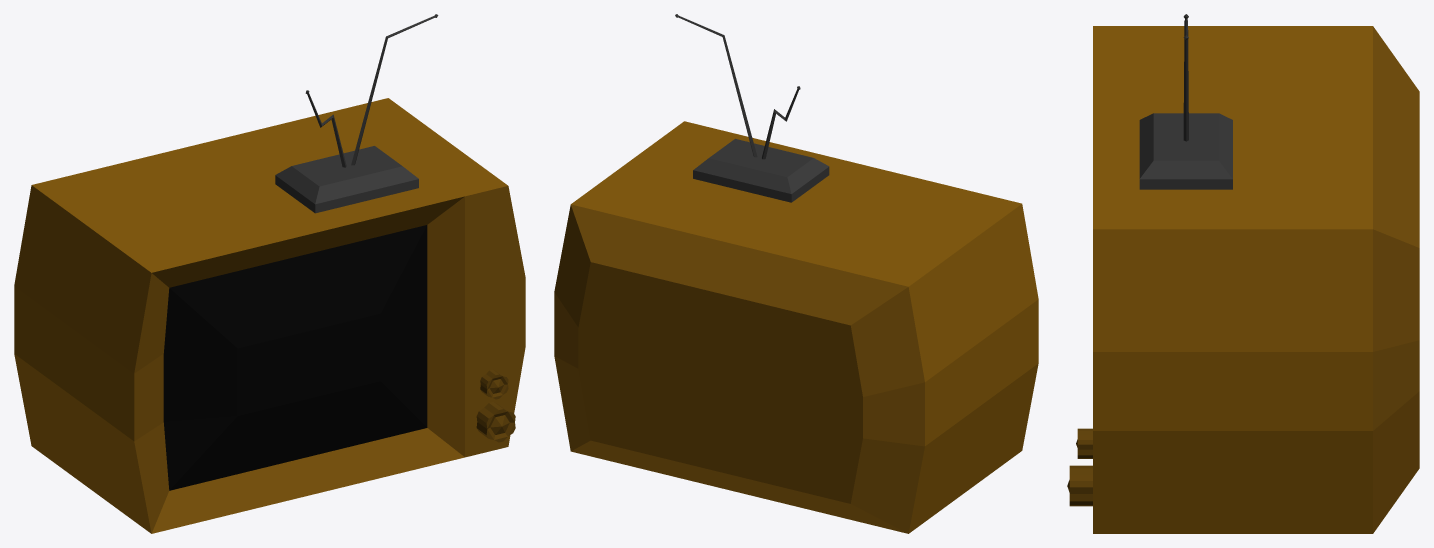
3 views of the same model, side by side, from view 1: azimuth 30°, elevation 25°; view 2: azimuth 150°, elevation 25°; view 3: azimuth 270°, elevation 25° (orthographic). The views are drawn at different scales.
Visible parts, largest first — view 1: TV; view 2: TV; view 3: TV.
Part boxes in pixels (x1=…): TV: x1=14, y1=14, x2=525, y2=533; TV: x1=554, y1=14, x2=1038, y2=533; TV: x1=1067, y1=14, x2=1419, y2=533.
Size of the model in its own units: 56.5 by 56.75 by 37.75.
